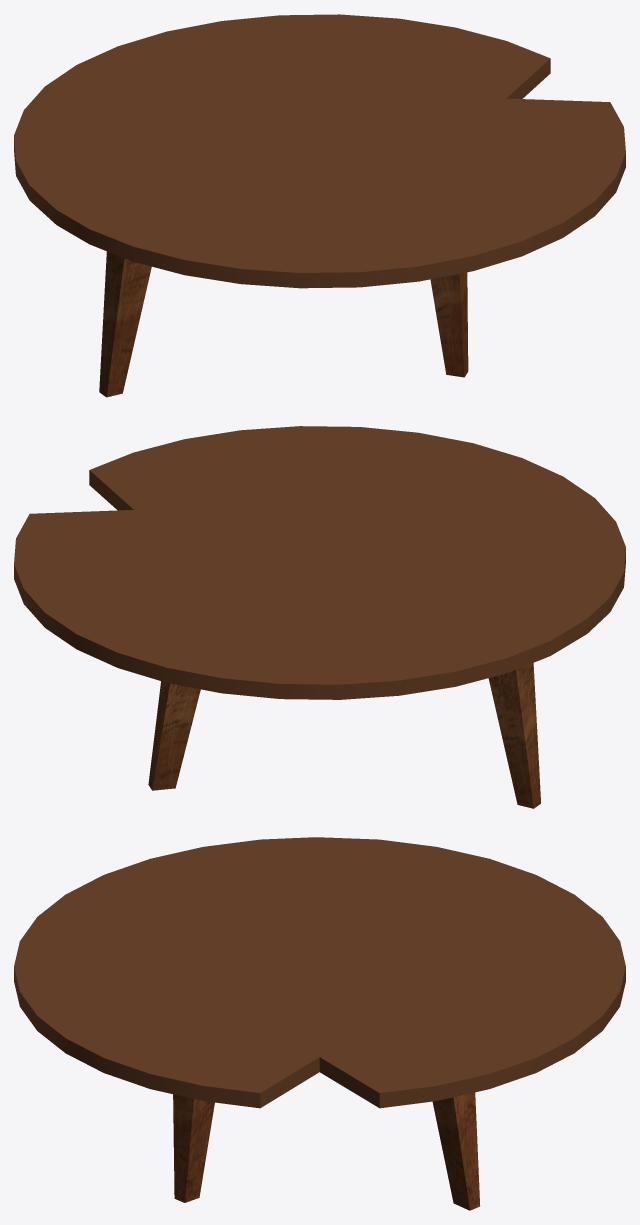
The model's file is MesaCentro.obj.
The picture shows the model from 3 angles, top to bottom: view 1: azimuth 30°, elevation 25°; view 2: azimuth 150°, elevation 25°; view 3: azimuth 270°, elevation 25°; orthographic projection.
Parts seen in each view (by area): view 1: MesaCentro; view 2: MesaCentro; view 3: MesaCentro.
Part boxes in pixels (x1,y1,x2,y2): MesaCentro: (14,14,625,397); MesaCentro: (14,426,625,808); MesaCentro: (14,837,625,1210).
Size of the model in its own units: 2.83 by 1.02 by 2.86.
Materials: 1 (1 with a texture image).
